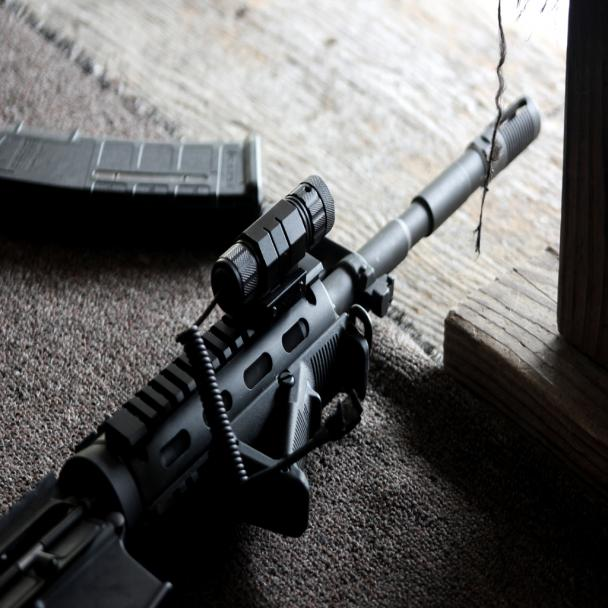Gun: (0, 77, 555, 608)
